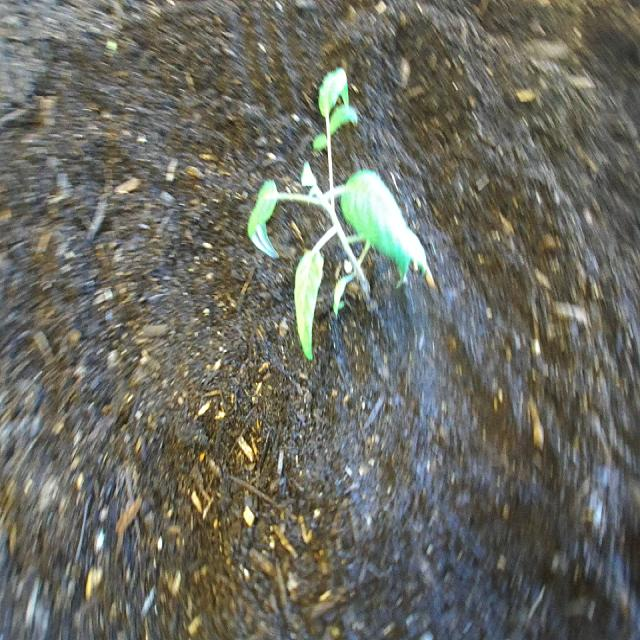Healthy: (236, 45, 437, 371)
